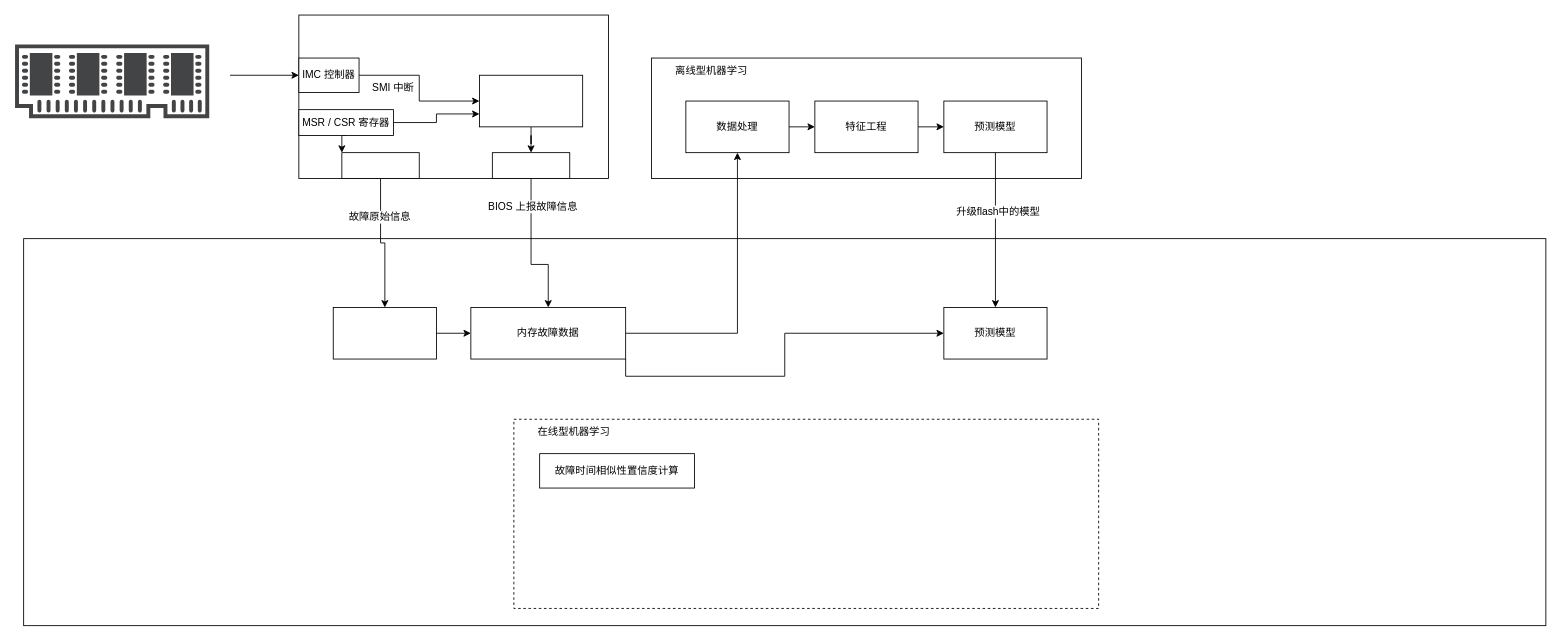
Some shapes in this 1561 by 641 pixel diagram are drawn without their labels. Each missing label, with the centre of its shape:
"BIOS 解析故障位置" belongs at (x=531, y=100).
"BMC 解析故障位置" belongs at (x=384, y=333).
"eSPI 接口" belongs at (x=530, y=165).
"PECI 接口" belongs at (x=380, y=165).
